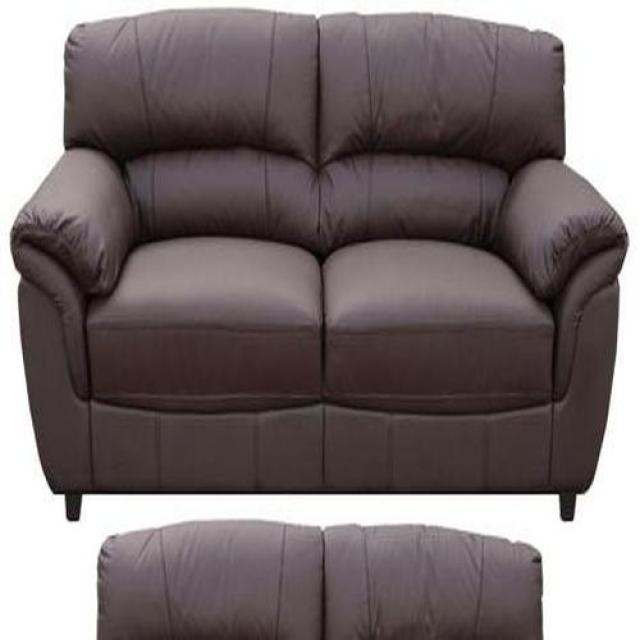sofa: (9, 6, 630, 522)
